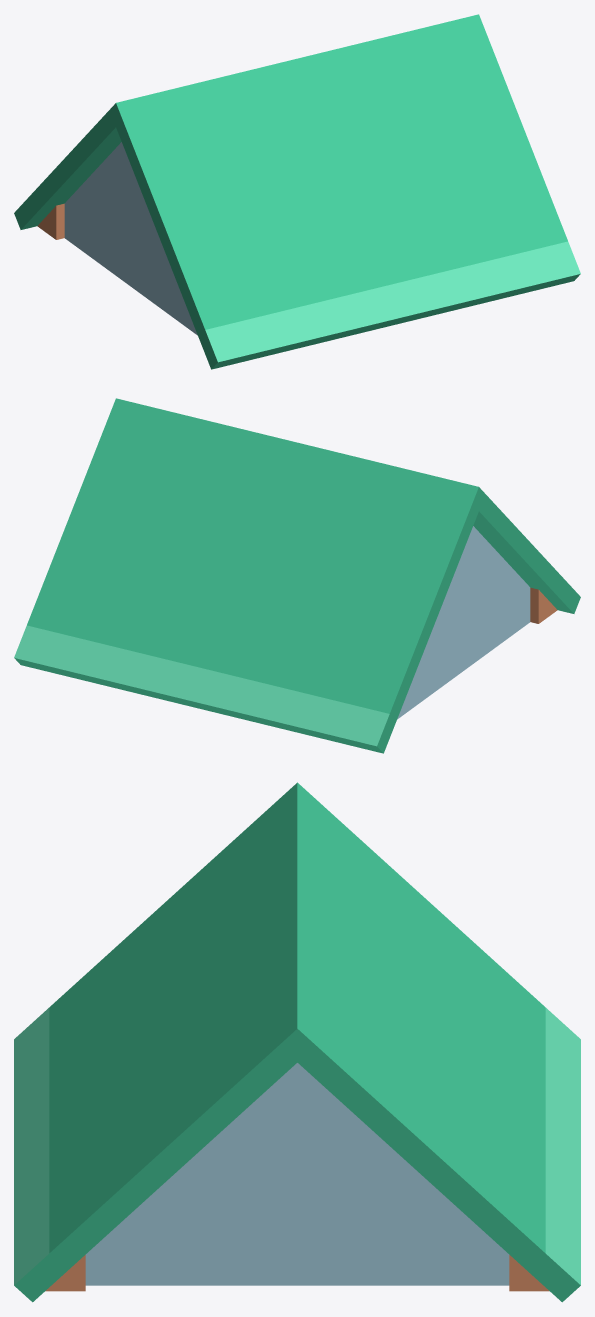
Rendered from roofGable.fbx.
3 views of the same model, one above another, from view 1: azimuth 30°, elevation 25°; view 2: azimuth 150°, elevation 25°; view 3: azimuth 270°, elevation 25° (orthographic). The views are drawn at different scales.
Parts seen in each view (by area): view 1: roofGable; view 2: roofGable; view 3: roofGable.
Part boxes in pixels (x1=…): roofGable: x1=14, y1=14, x2=580, y2=369; roofGable: x1=14, y1=398, x2=580, y2=753; roofGable: x1=14, y1=782, x2=580, y2=1302.
Bounding box in the file's own units: 11 × 5.71 × 10.71.
